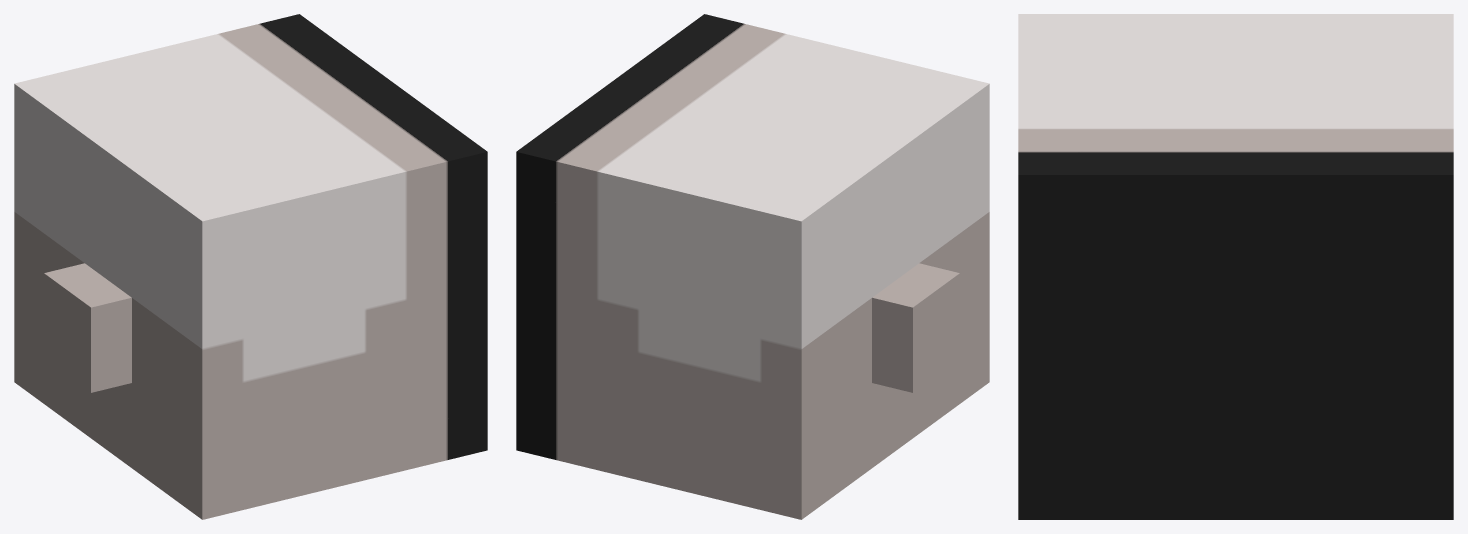
Rendered from Shoulder032.fbx.
3 renders of one model, left to right at view 1: azimuth 30°, elevation 25°; view 2: azimuth 150°, elevation 25°; view 3: azimuth 270°, elevation 25°, orthographic. The views are drawn at different scales.
Visible parts, largest first — view 1: Shoulder032; view 2: Shoulder032; view 3: Shoulder032.
Boxes of the visible parts, bbox=[...] form: Shoulder032: bbox=[14, 14, 487, 519]; Shoulder032: bbox=[516, 14, 989, 519]; Shoulder032: bbox=[1018, 14, 1453, 519].
Bounding box in the file's own units: 8 × 7 × 8.
